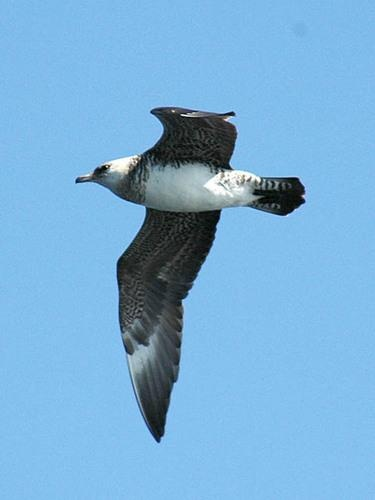bird: (73, 106, 307, 445)
